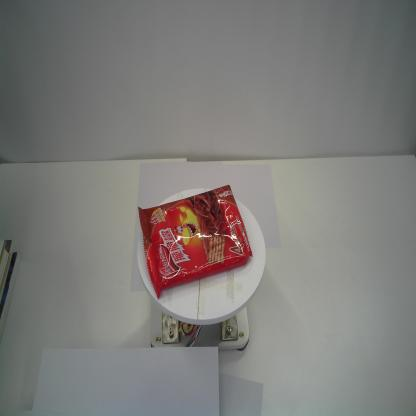Dessert: (138, 184, 252, 300)
